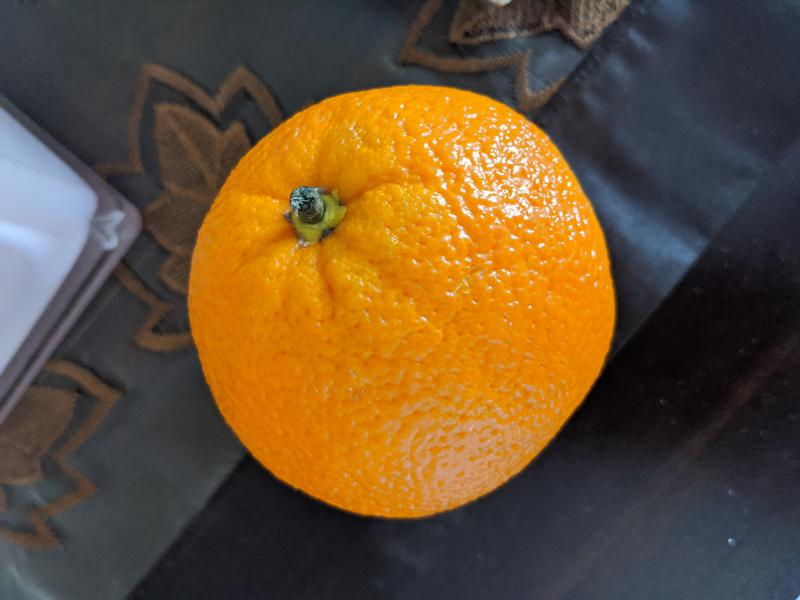orange: (187, 83, 617, 521)
